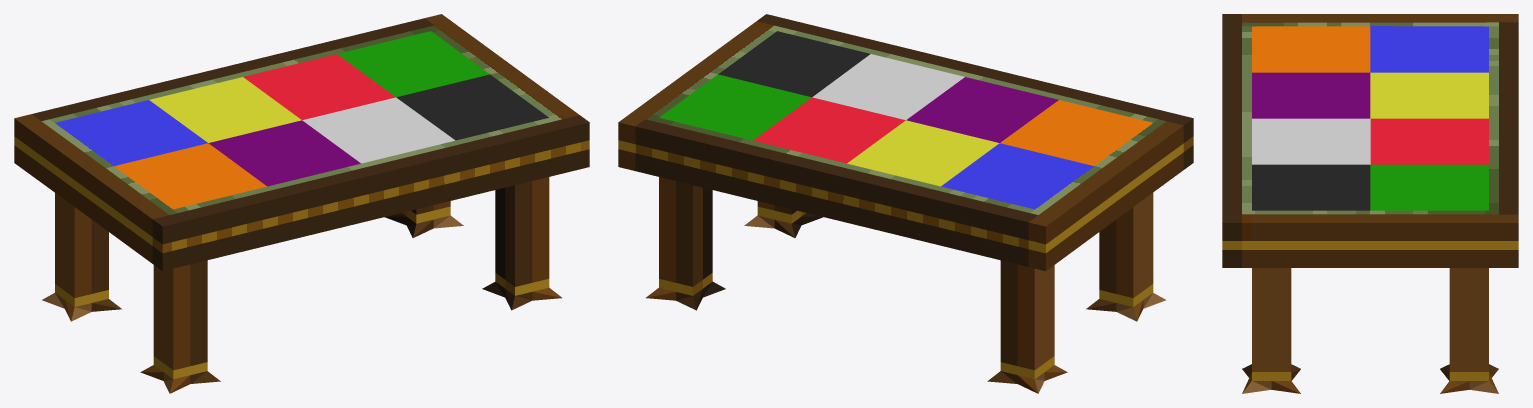
Rendered from roulettetable_520x0.gltf.
3 views of the same model, side by side, from view 1: azimuth 30°, elevation 25°; view 2: azimuth 150°, elevation 25°; view 3: azimuth 270°, elevation 25° (orthographic).
Visible parts, largest first — view 1: RouletteTable_520x0; view 2: RouletteTable_520x0; view 3: RouletteTable_520x0.
Boxes of the visible parts, x1,y1,x2,y2 form: RouletteTable_520x0: (14,14,589,393); RouletteTable_520x0: (618,14,1193,393); RouletteTable_520x0: (1222,14,1518,393).
Size of the model in its own units: 5 by 2 by 3.
Materials: 1 (1 with a texture image).
